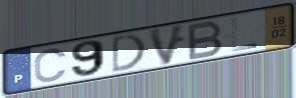9: (70, 39, 109, 80)
B: (186, 19, 225, 62)
C: (33, 47, 69, 84)
D: (110, 31, 148, 75)
L: (231, 16, 260, 53)
V: (146, 22, 189, 68)
